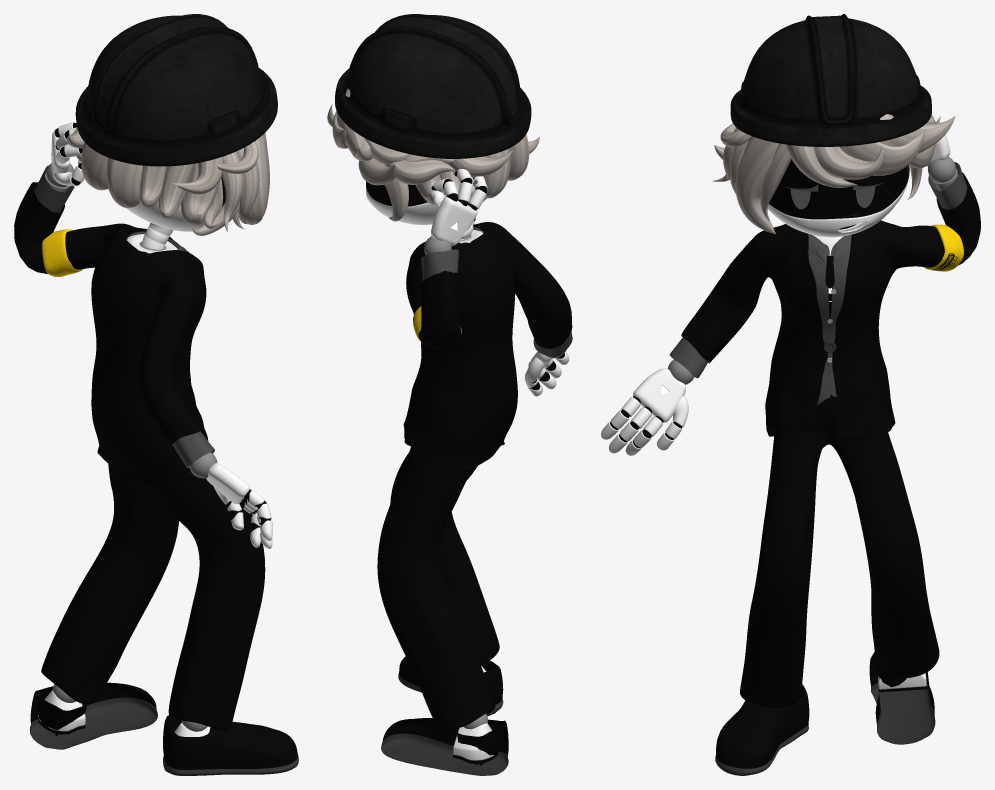
Rendered from butler-transformed.glb.
The picture shows the model from 3 angles, left to right: view 1: azimuth 30°, elevation 25°; view 2: azimuth 150°, elevation 25°; view 3: azimuth 270°, elevation 25°; orthographic projection. The views are drawn at different scales.
Visible parts, largest first — view 1: Object_17, Object_12, Object_27, Object_33, Object_4, Object_13, Object_2; view 2: Object_17, Object_12, Object_4, Object_33, Object_27, Object_13, Object_3; view 3: Object_17, Object_12, Object_4, Object_33, Object_27, Object_3, Object_13, Object_2, Object_32.
Boxes of the visible parts, x1,y1,x2,y2 form: Object_17: (14, 182, 265, 730); Object_12: (75, 14, 277, 166); Object_27: (29, 682, 298, 775); Object_33: (67, 127, 269, 235); Object_4: (38, 122, 272, 736); Object_13: (34, 165, 214, 467); Object_2: (42, 229, 82, 276); Object_17: (377, 222, 572, 732); Object_12: (335, 14, 531, 158); Object_4: (366, 169, 569, 765); Object_33: (327, 88, 539, 221); Object_27: (381, 656, 508, 775); Object_13: (421, 227, 572, 357); Object_3: (366, 181, 444, 206); Object_17: (681, 172, 980, 708); Object_12: (730, 14, 931, 146); Object_4: (601, 116, 958, 692); Object_33: (711, 114, 955, 233); Object_27: (715, 652, 935, 775); Object_3: (769, 159, 909, 219); Object_13: (669, 162, 967, 404); Object_2: (924, 224, 963, 271); Object_32: (661, 187, 874, 394).
Size of the model in its own units: 0.3756 by 1.34 by 0.642.
Materials: 13 (10 with a texture image).
